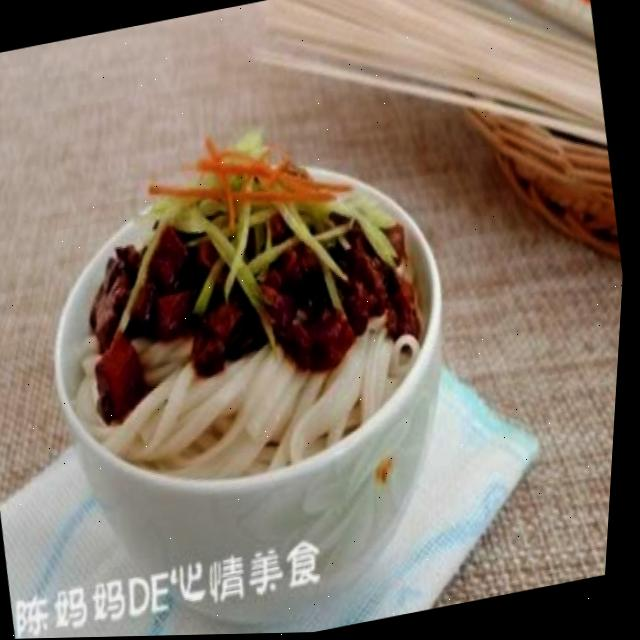面条主食: (9, 104, 493, 564)
